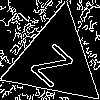Z: (30, 34, 81, 89)
